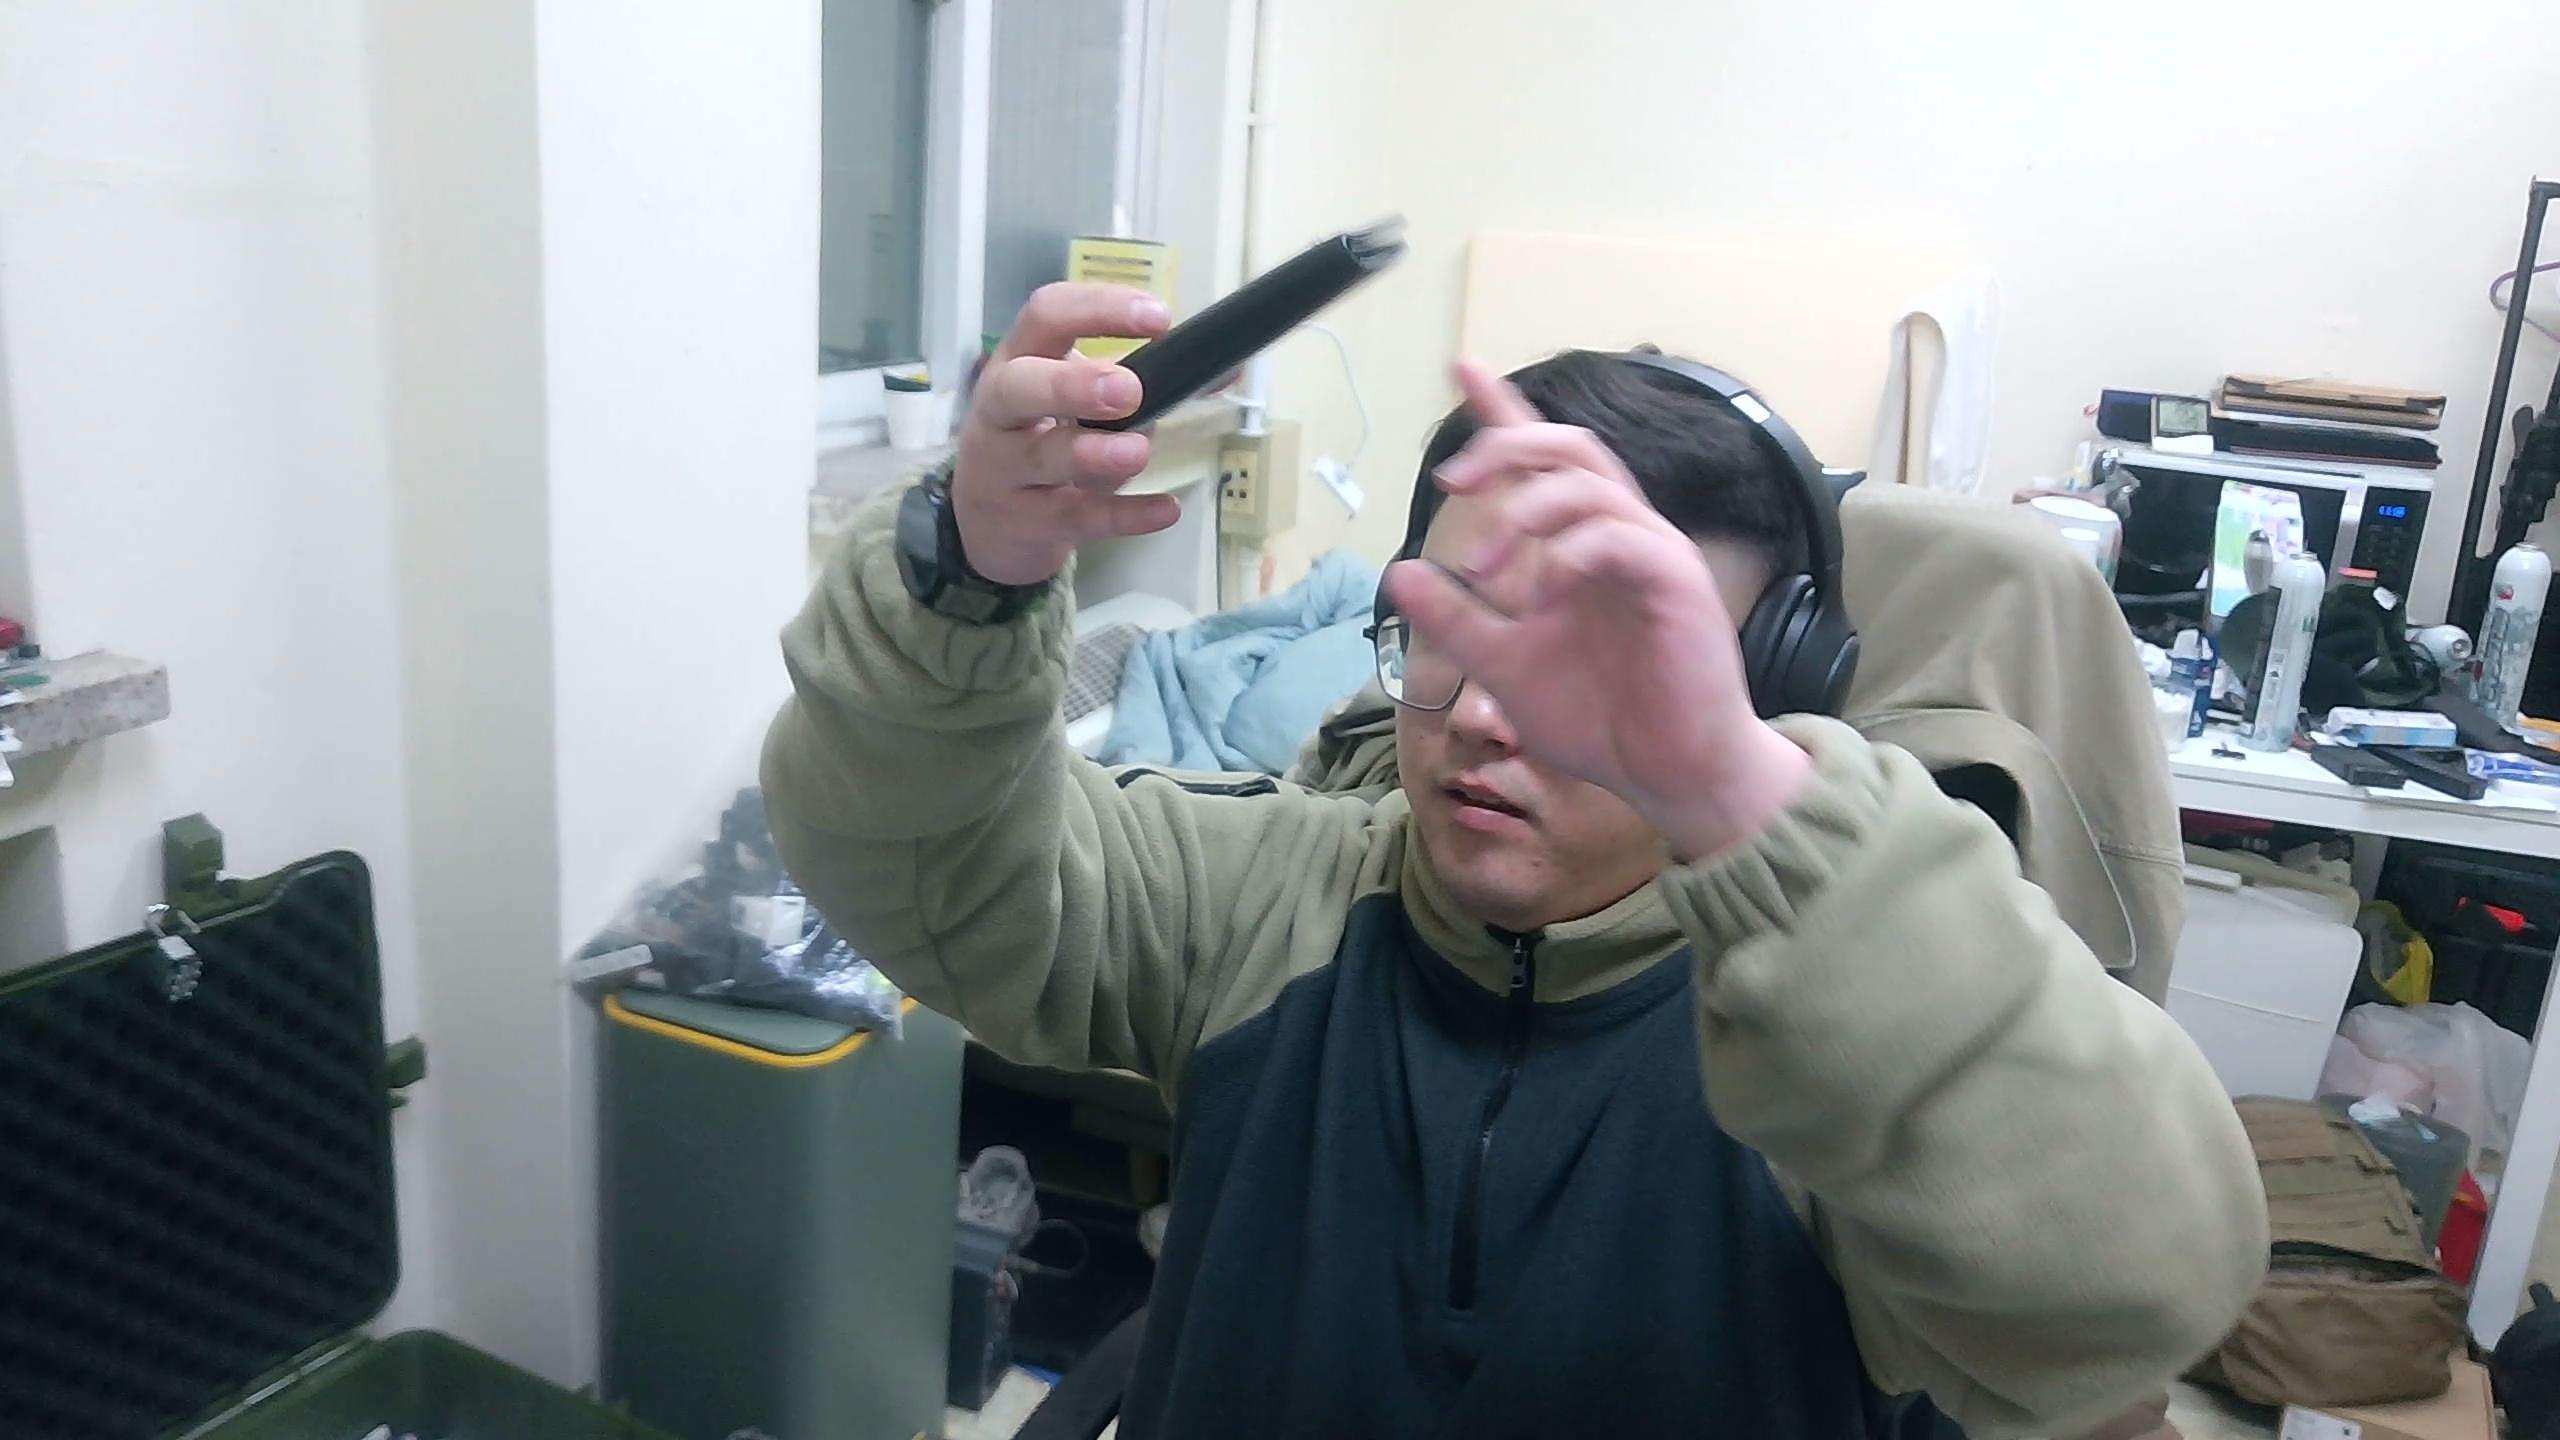earphone: (2, 812, 408, 1438)
